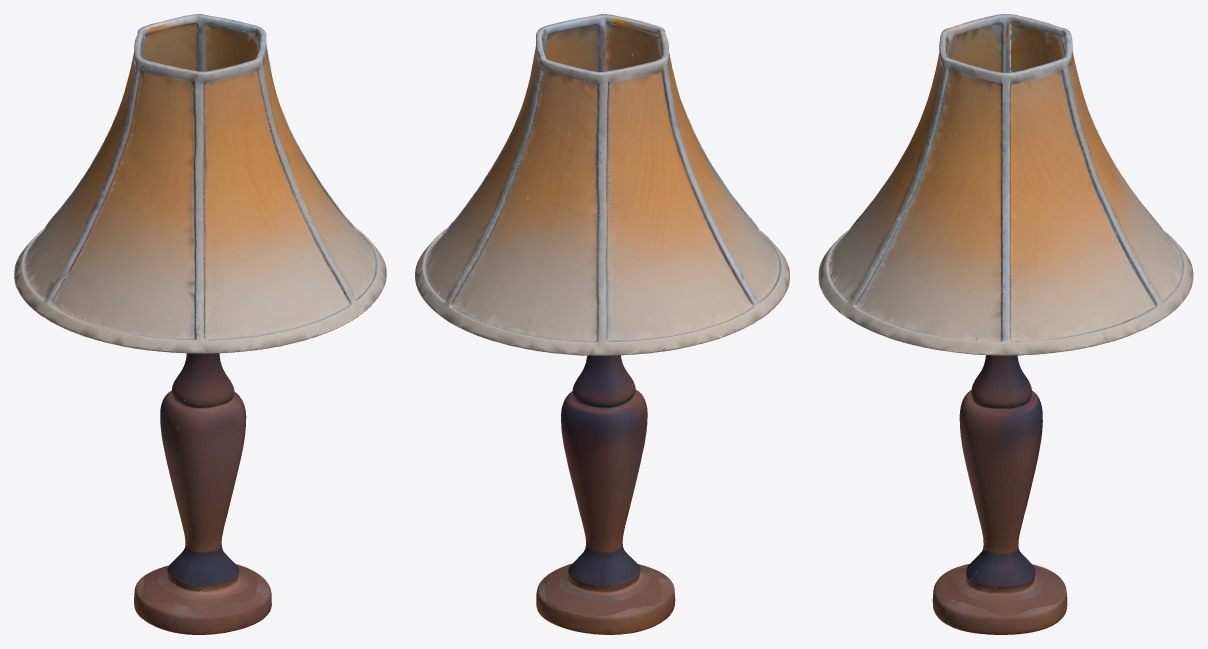
File: Lamp2.glb
3 renders of one model, left to right at view 1: azimuth 30°, elevation 25°; view 2: azimuth 150°, elevation 25°; view 3: azimuth 270°, elevation 25°, orthographic.
Visible parts, largest first — view 1: tripo_node_24a55950-683c-4669-b320-5d35b88c1801; view 2: tripo_node_24a55950-683c-4669-b320-5d35b88c1801; view 3: tripo_node_24a55950-683c-4669-b320-5d35b88c1801.
Boxes of the visible parts, x1=… form: tripo_node_24a55950-683c-4669-b320-5d35b88c1801: x1=14, y1=14, x2=386, y2=634; tripo_node_24a55950-683c-4669-b320-5d35b88c1801: x1=415, y1=14, x2=789, y2=634; tripo_node_24a55950-683c-4669-b320-5d35b88c1801: x1=818, y1=14, x2=1193, y2=634.
Size of the model in its own units: 0.603 by 1 by 0.603.
Materials: 1 (1 with a texture image).
